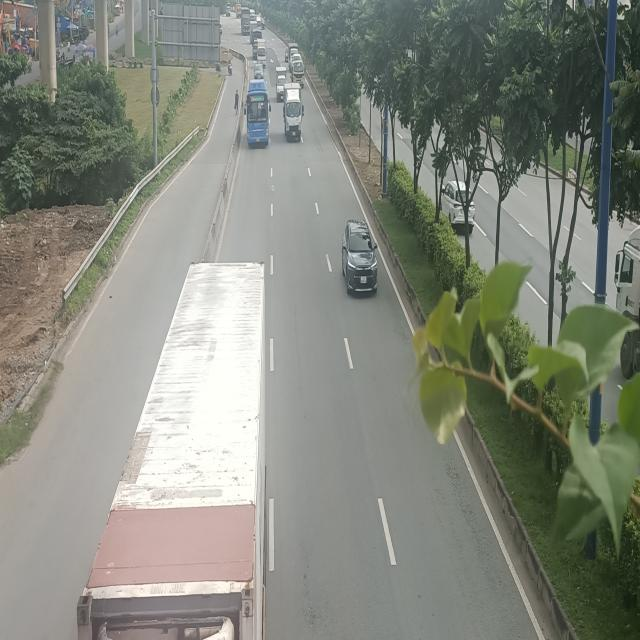car: (342, 218, 379, 296)
coach: (244, 79, 271, 146)
container: (76, 256, 266, 640)
truck: (283, 83, 304, 141), (276, 66, 287, 102), (293, 59, 306, 85), (256, 38, 266, 68)
